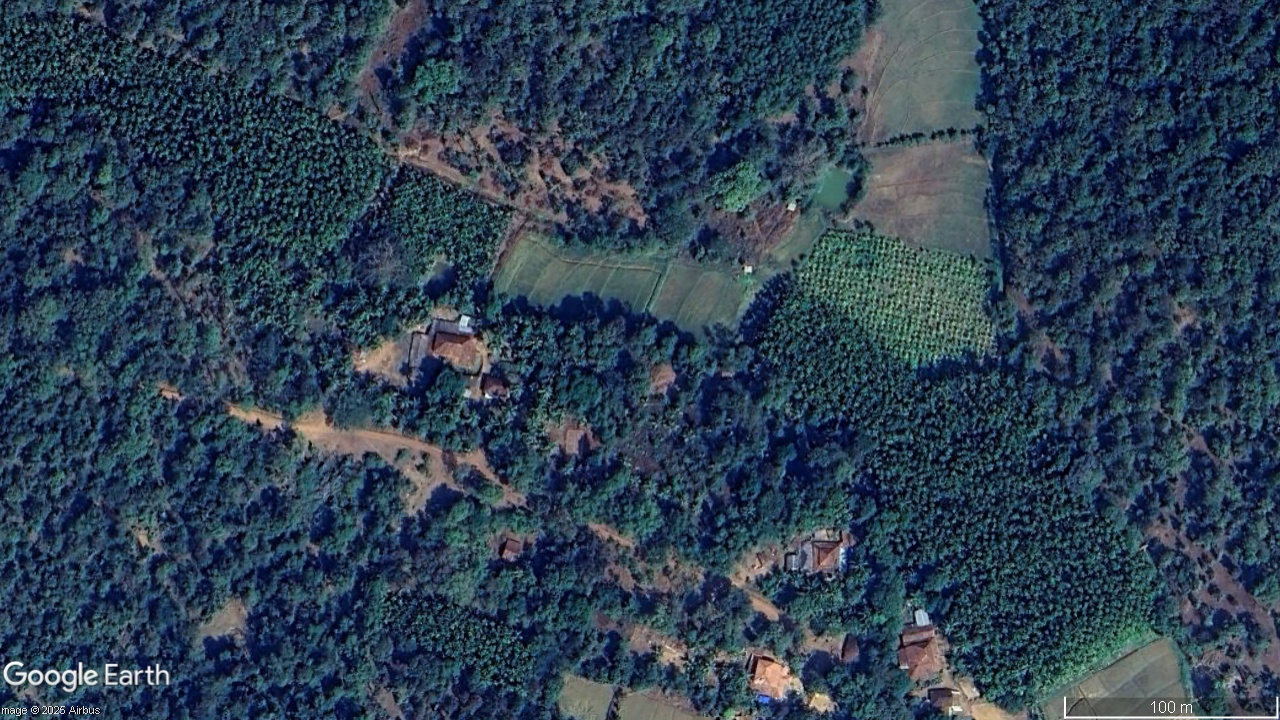arecanut: (766, 287, 1160, 696), (1, 5, 520, 291), (798, 226, 1001, 371), (388, 583, 541, 695)
